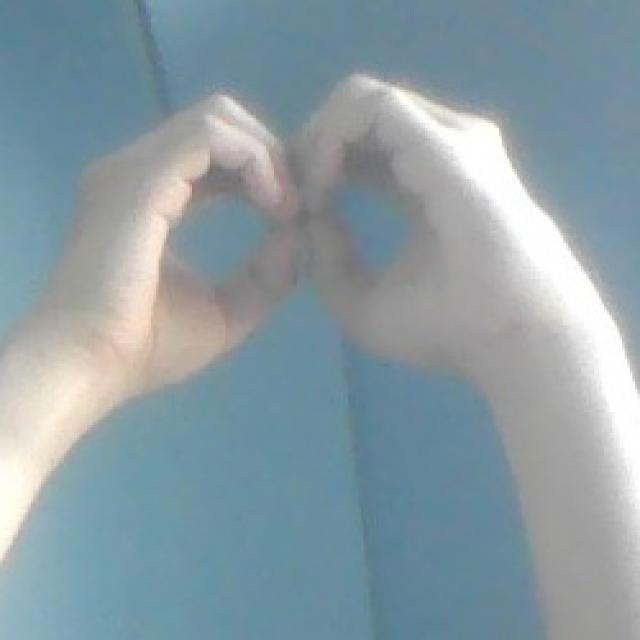Alphabet-B: (30, 68, 561, 395)
